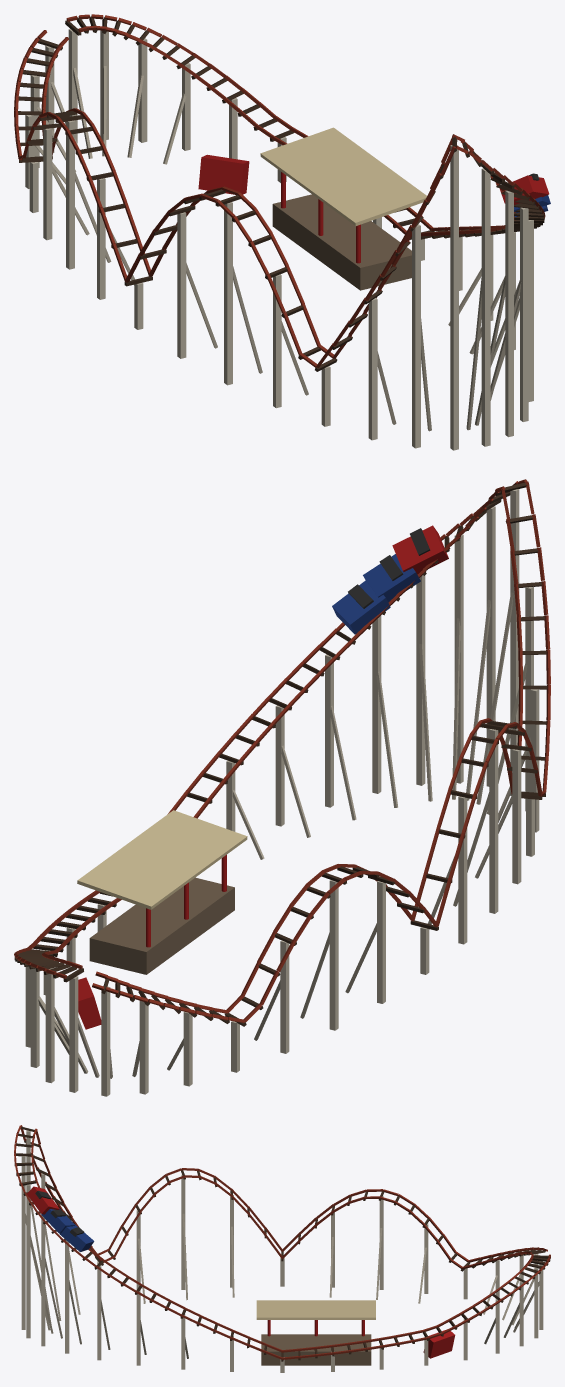
File: montanha_russa.glb
The picture shows the model from 3 angles, top to bottom: view 1: azimuth 30°, elevation 25°; view 2: azimuth 150°, elevation 25°; view 3: azimuth 270°, elevation 25°; orthographic projection. The views are drawn at different scales.
Visible parts, largest first — view 1: obj_3; view 2: obj_3; view 3: obj_3.
Part boxes in pixels (x1,y1,x2,y2): obj_3: [14, 14, 550, 450]; obj_3: [14, 479, 550, 1096]; obj_3: [14, 1125, 550, 1372].
Bounding box in the file's own units: 14.22 × 13.89 × 34.22.
Materials: 1 (1 with a texture image).
